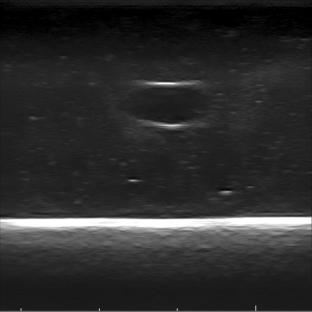vessel: (124, 81, 209, 130)
